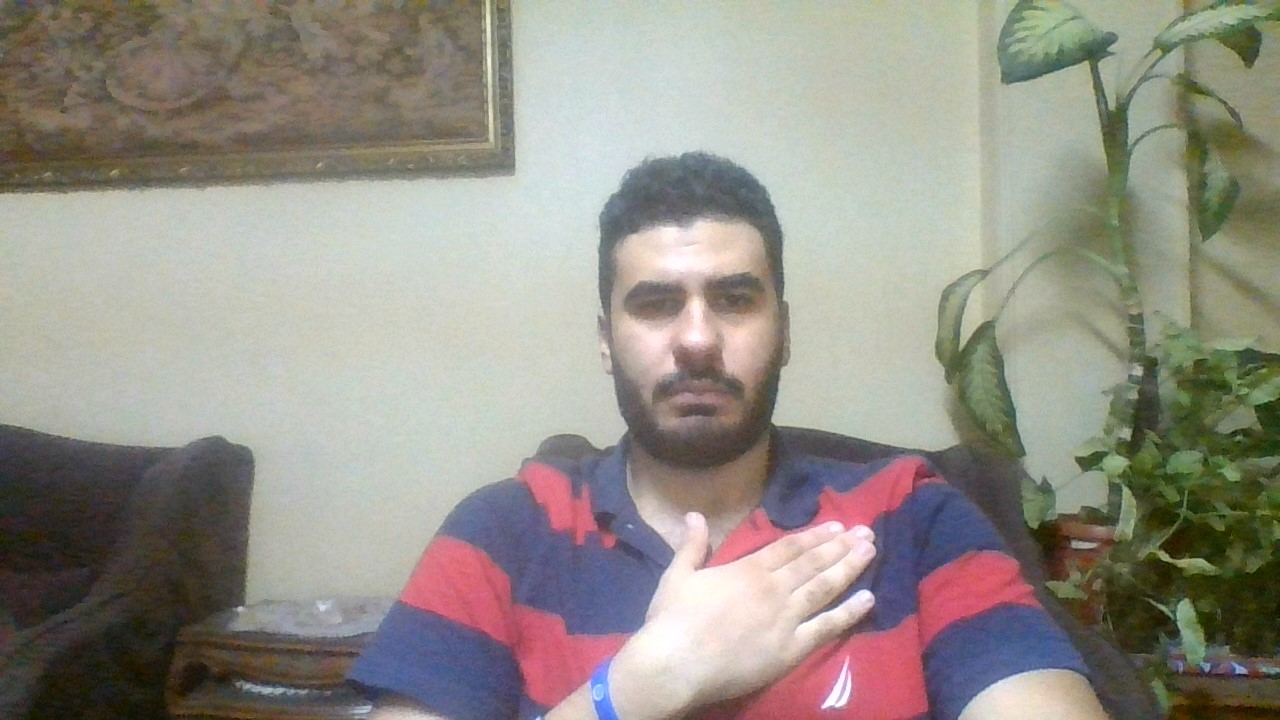please: (659, 499, 877, 689)
